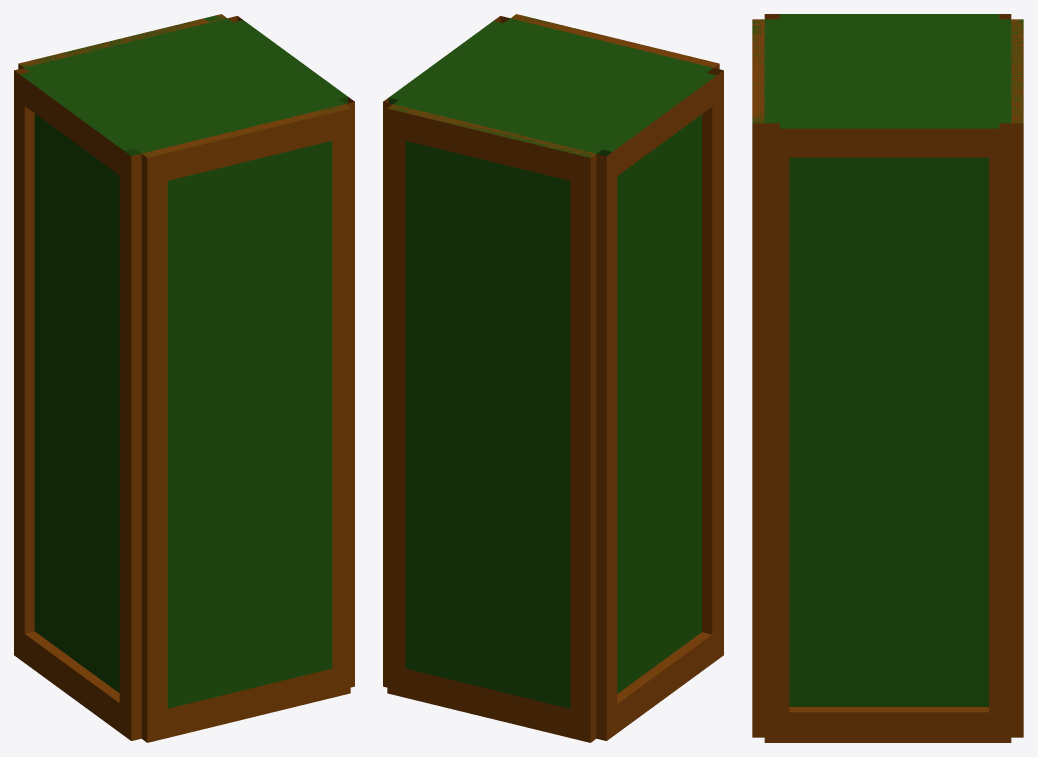
Rendered from Wall.fbx.
3 views of the same model, side by side, from view 1: azimuth 30°, elevation 25°; view 2: azimuth 150°, elevation 25°; view 3: azimuth 270°, elevation 25° (orthographic). The views are drawn at different scales.
Visible parts, largest first — view 1: Cube, Cube.001; view 2: Cube, Cube.001; view 3: Cube, Cube.001.
Boxes of the visible parts, <box> form: Cube: <box>20,15,349,708</box>; Cube.001: <box>14,14,354,742</box>; Cube: <box>388,15,716,708</box>; Cube.001: <box>383,14,723,742</box>; Cube: <box>752,14,1023,706</box>; Cube.001: <box>752,14,1023,742</box>.
Bounding box in the file's own units: 1 × 2.5 × 1.
